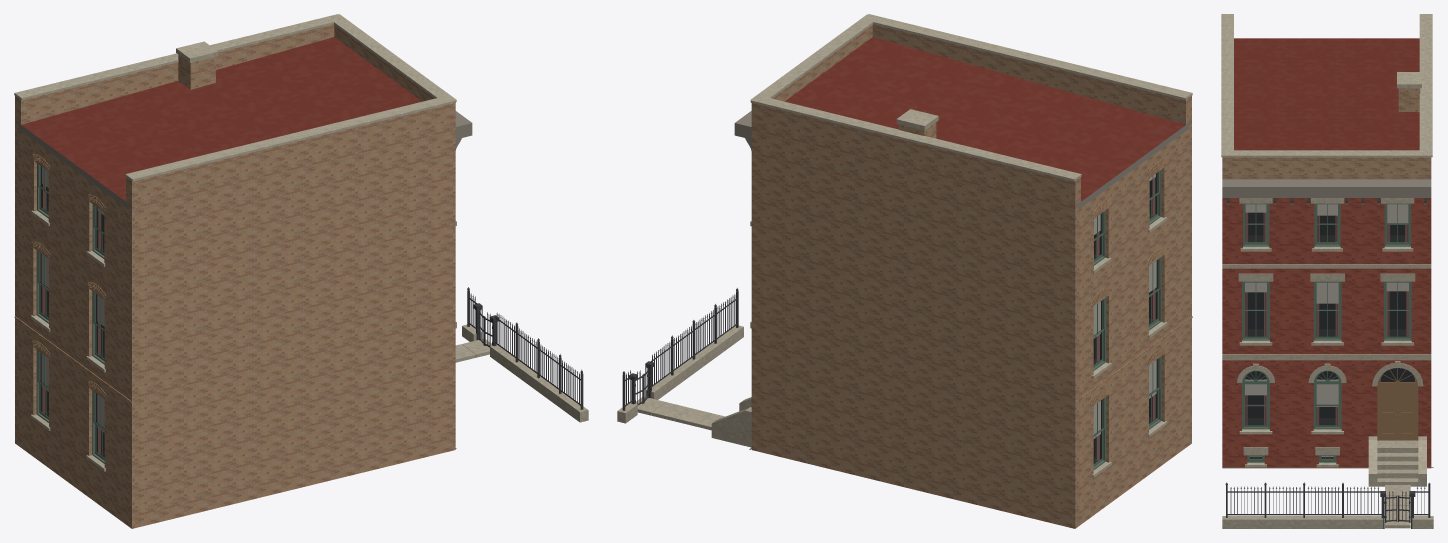
The model's file is house_215_e20th__as_mapped_1904.glb.
3 renders of one model, left to right at view 1: azimuth 30°, elevation 25°; view 2: azimuth 150°, elevation 25°; view 3: azimuth 270°, elevation 25°, orthographic. The views are drawn at different scales.
Parts seen in each view (by area): view 1: house_215_e20th__as_mapped_1904; view 2: house_215_e20th__as_mapped_1904; view 3: house_215_e20th__as_mapped_1904.
Part boxes in pixels (x1,y1,x2,y2): house_215_e20th__as_mapped_1904: (14,14,588,528); house_215_e20th__as_mapped_1904: (617,14,1192,528); house_215_e20th__as_mapped_1904: (1221,14,1433,528).
Bounding box in the file's own units: 16.23 × 12.34 × 7.27.
Materials: 19 (9 with a texture image).
